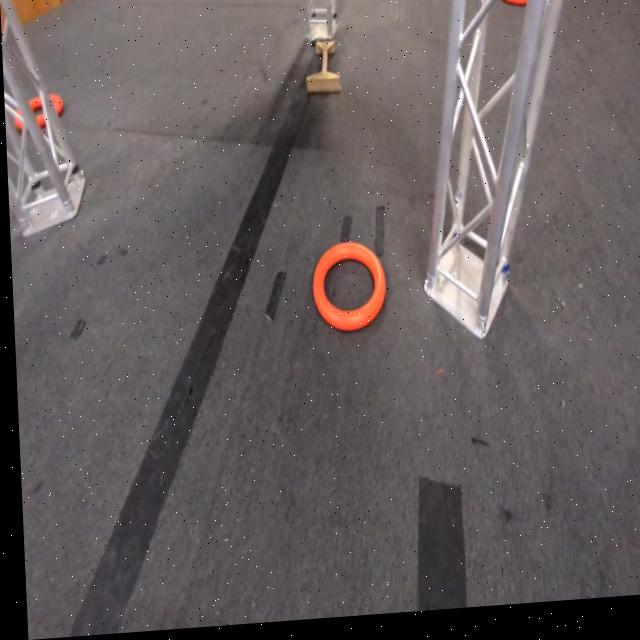note: (308, 251, 385, 340), (12, 89, 64, 131), (501, 0, 528, 18)
